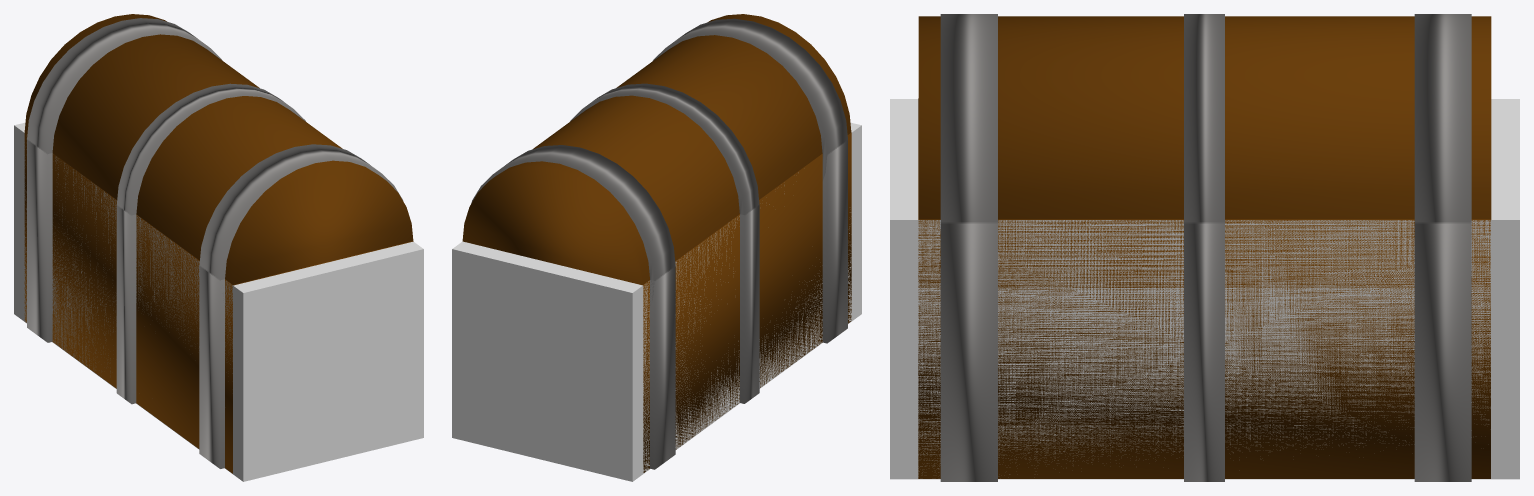
Rendered from SilverChest.fbx.
The picture shows the model from 3 angles, left to right: view 1: azimuth 30°, elevation 25°; view 2: azimuth 150°, elevation 25°; view 3: azimuth 270°, elevation 25°; orthographic projection. The views are drawn at different scales.
Parts seen in each view (by area): view 1: Cube.001, Cylinder, Cube, Cylinder.001, Cylinder.002, Cube.004, Cube.003, Cylinder.003, Cube.002; view 2: Cube.001, Cylinder, Cube, Cylinder.001, Cylinder.002, Cube.003, Cube.004, Cylinder.003, Cube.002; view 3: Cube, Cube.001, Cylinder, Cube.003, Cube.004, Cylinder.001, Cylinder.002, Cube.002, Cylinder.003.
Part boxes in pixels (left/top/right/bottom): Cube.001: left=14, top=122, right=423, bottom=481; Cylinder: left=24, top=14, right=413, bottom=284; Cube: left=24, top=133, right=413, bottom=473; Cylinder.001: left=199, top=144, right=403, bottom=280; Cylinder.002: left=27, top=18, right=222, bottom=154; Cube.004: left=199, top=265, right=224, bottom=468; Cube.003: left=27, top=139, right=52, bottom=342; Cylinder.003: left=117, top=83, right=305, bottom=215; Cube.002: left=116, top=205, right=136, bottom=404; Cube.001: left=452, top=122, right=861, bottom=481; Cylinder: left=462, top=14, right=851, bottom=285; Cube: left=643, top=132, right=851, bottom=472; Cylinder.001: left=653, top=18, right=847, bottom=180; Cylinder.002: left=471, top=145, right=675, bottom=305; Cube.003: left=650, top=266, right=675, bottom=469; Cube.004: left=822, top=140, right=847, bottom=343; Cylinder.003: left=570, top=83, right=759, bottom=215; Cube.002: left=740, top=204, right=759, bottom=403; Cube: left=918, top=98, right=1490, bottom=478; Cube.001: left=890, top=99, right=1519, bottom=479; Cylinder: left=918, top=16, right=1491, bottom=219; Cube.003: left=1414, top=222, right=1471, bottom=481; Cube.004: left=940, top=222, right=997, bottom=481; Cylinder.001: left=940, top=14, right=997, bottom=223; Cylinder.002: left=1414, top=14, right=1471, bottom=223; Cube.002: left=1184, top=222, right=1224, bottom=481; Cylinder.003: left=1184, top=14, right=1224, bottom=223.
Size of the model in its own units: 210 by 301 by 440.
